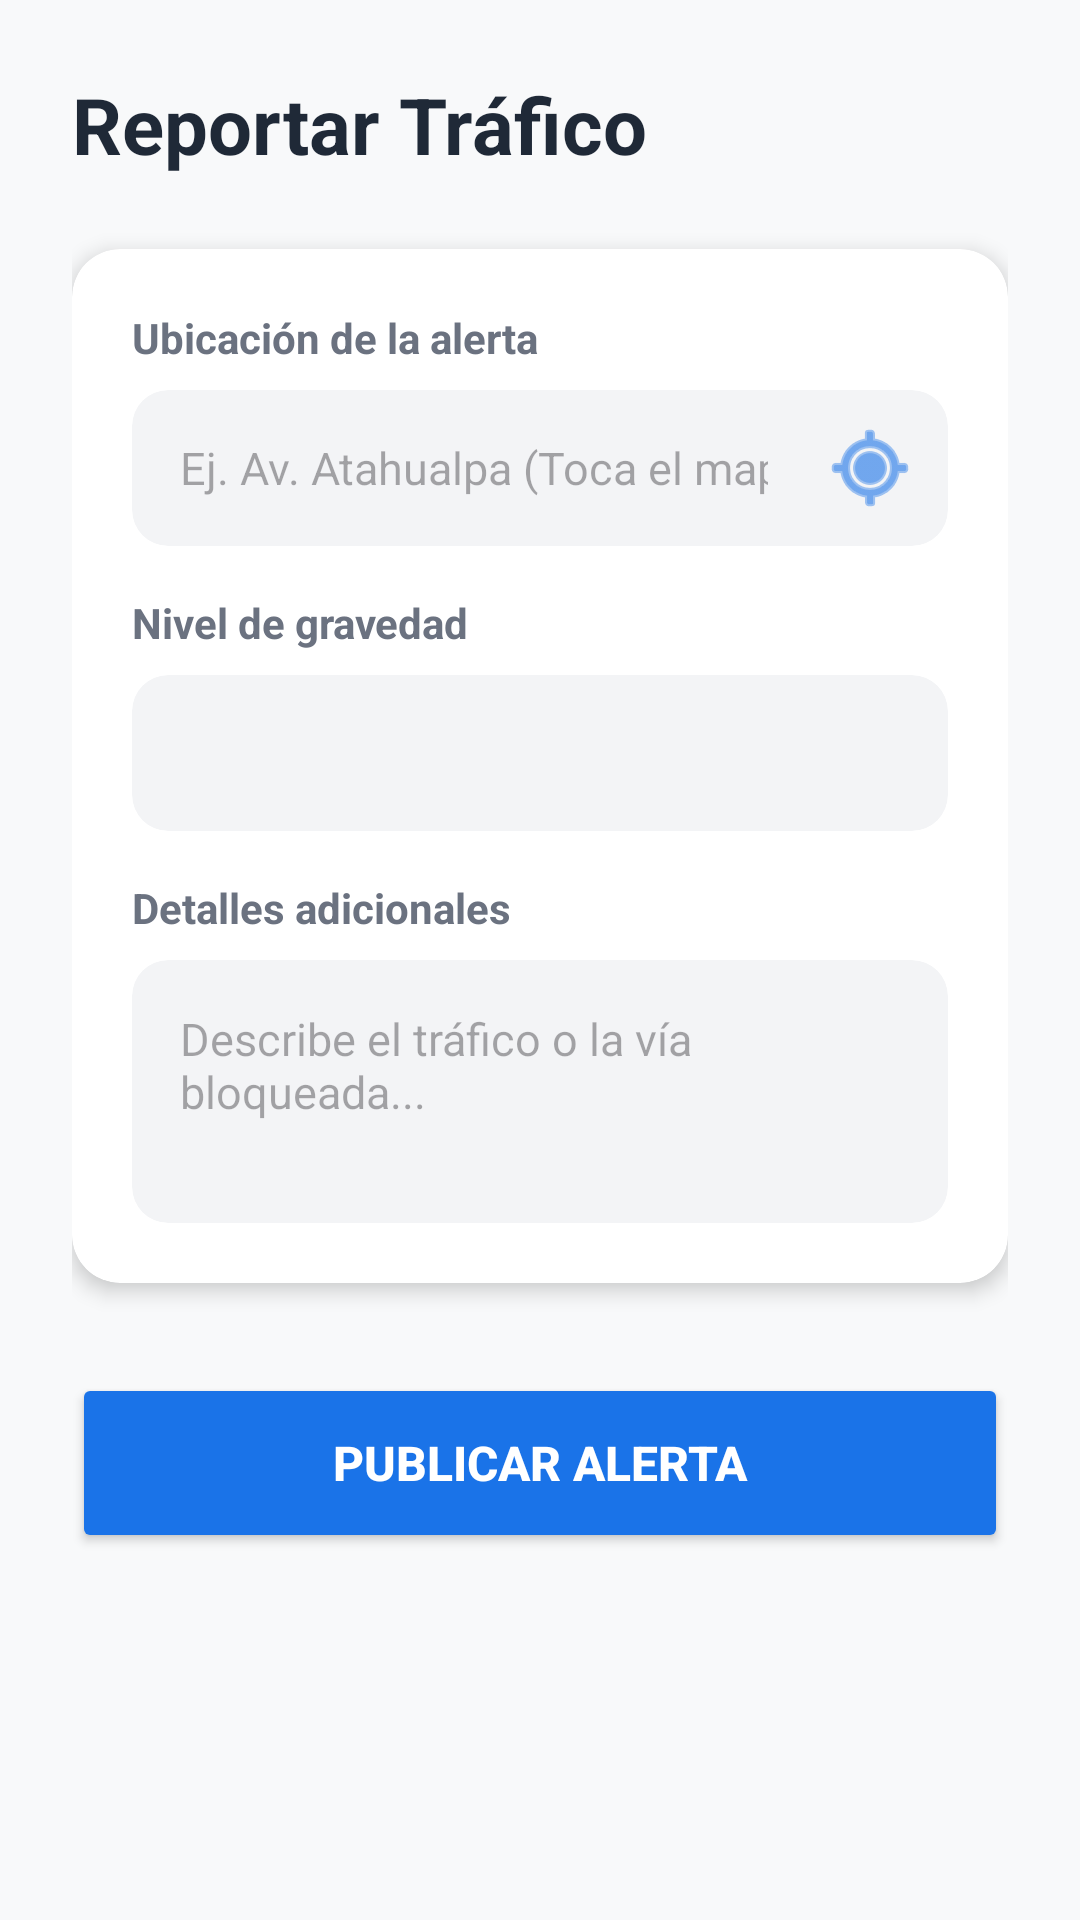

Point at icon controls on the screen. Image size 1080px×1920px, points as (x=x, y=y).
mylocation: (x=870, y=468)
